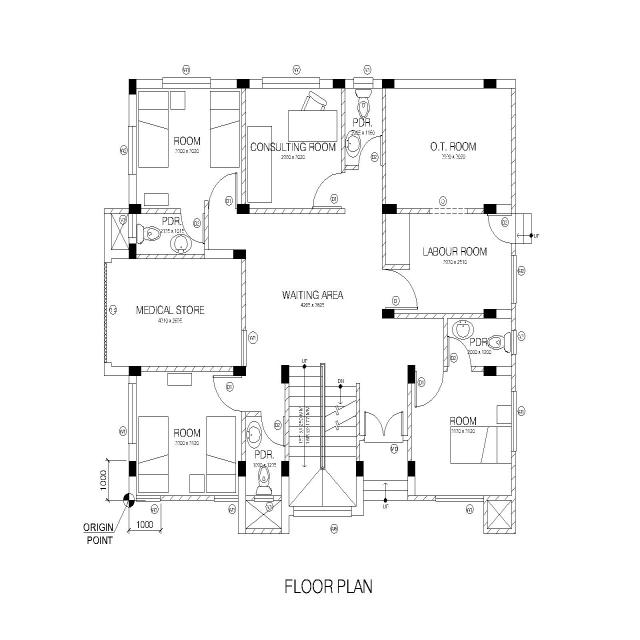Column: (280, 458, 290, 478), (281, 363, 290, 385), (233, 364, 247, 378), (128, 202, 142, 215), (483, 203, 498, 215), (407, 364, 416, 384), (382, 203, 397, 215), (237, 461, 248, 477), (332, 78, 346, 90), (233, 248, 247, 260), (128, 365, 142, 377), (236, 203, 249, 215), (483, 78, 497, 89), (128, 78, 137, 95), (407, 460, 416, 477), (129, 242, 137, 260), (128, 460, 136, 478), (382, 308, 395, 319), (483, 309, 497, 319), (483, 366, 497, 376), (356, 460, 364, 477), (382, 78, 394, 89), (237, 78, 250, 88)
Door: (240, 374, 247, 414), (364, 435, 403, 442), (207, 199, 237, 208), (415, 366, 446, 374), (260, 410, 284, 418), (510, 213, 516, 244), (382, 266, 386, 308), (446, 366, 472, 372), (179, 208, 205, 214), (341, 172, 345, 210), (358, 164, 383, 168)
Opening: (428, 208, 468, 215), (343, 209, 382, 215)
Staircase: (288, 362, 358, 460), (361, 479, 409, 501)
Ventilator: (353, 77, 374, 90), (128, 210, 136, 240), (511, 329, 517, 355), (252, 495, 274, 501)
Window: (260, 76, 322, 90), (293, 504, 352, 518), (127, 382, 138, 444), (162, 77, 212, 89), (128, 125, 137, 175), (435, 494, 484, 502), (511, 390, 517, 452), (511, 255, 517, 303), (241, 329, 248, 367), (135, 493, 160, 503), (213, 493, 239, 502)
